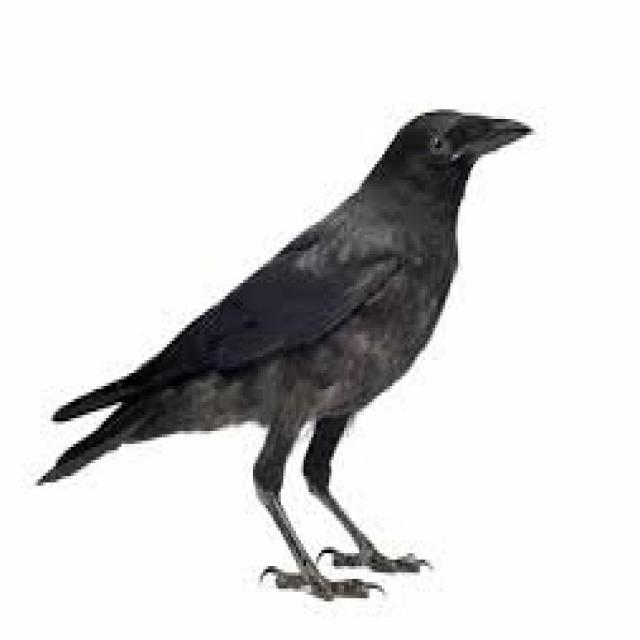crow: (40, 109, 529, 595)
